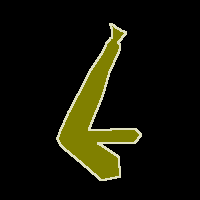tie: (57, 24, 141, 180)
